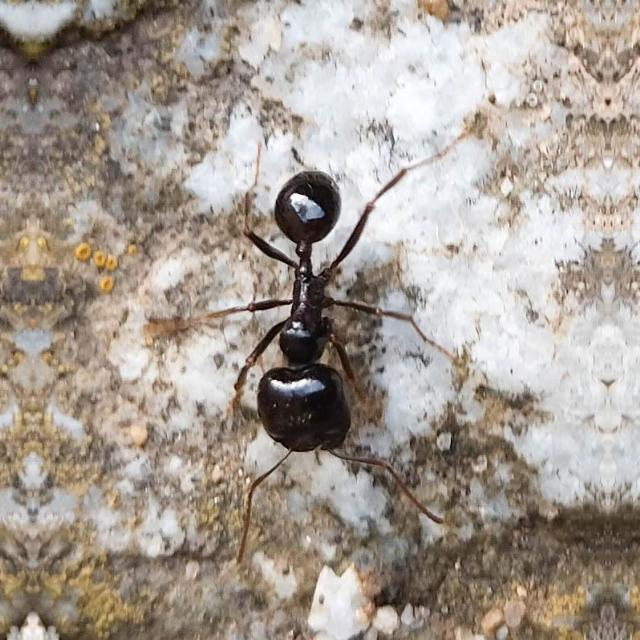Messor: (220, 147, 394, 473)
